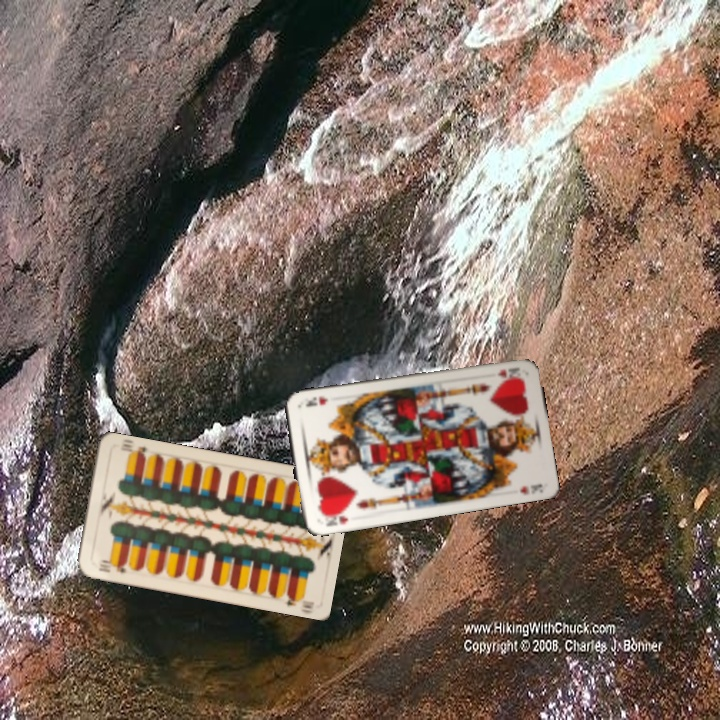E10: (95, 557, 129, 575)
HK: (319, 508, 351, 529), (493, 363, 522, 379)
